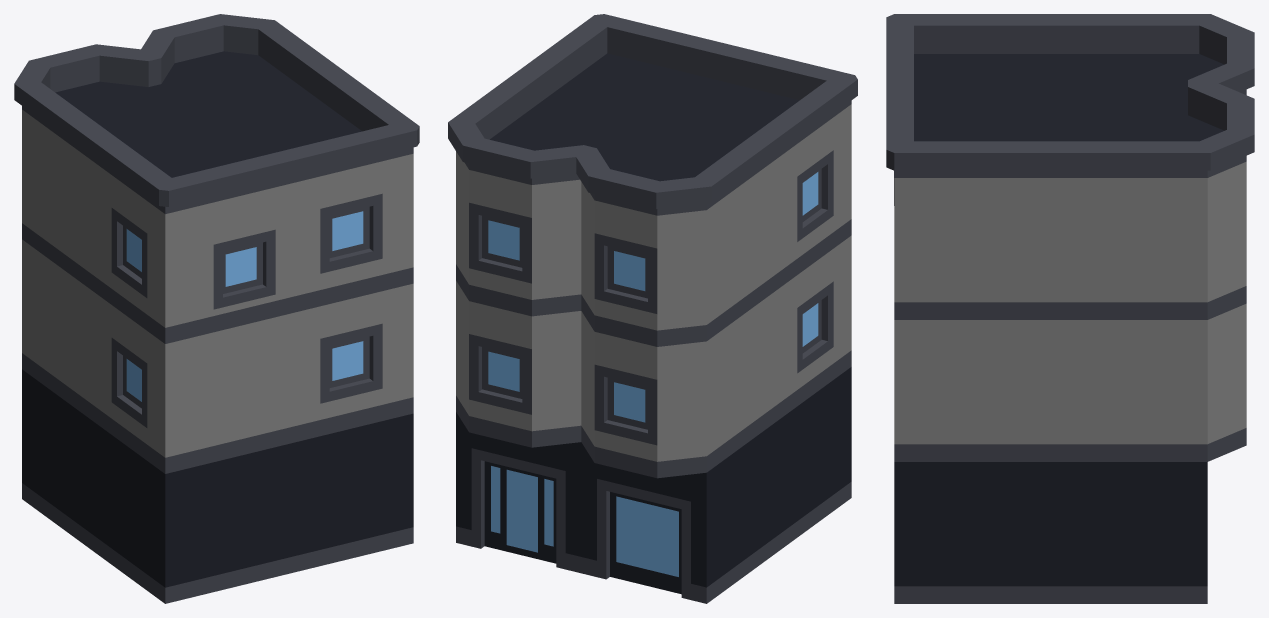
File: variant_17.obj
The picture shows the model from 3 angles, left to right: view 1: azimuth 30°, elevation 25°; view 2: azimuth 150°, elevation 25°; view 3: azimuth 270°, elevation 25°; orthographic projection. The views are drawn at different scales.
Visible parts, largest first — view 1: Building_copy, Window_copy; view 2: Building_copy; view 3: Building_copy.
Boxes of the visible parts, box(x1,y1,x2,y2) form: Building_copy: box(14, 14, 419, 603); Window_copy: box(213, 229, 275, 309); Building_copy: box(448, 14, 857, 603); Building_copy: box(886, 14, 1254, 603).
Bounding box in the file's own units: 0.84 × 1.28 × 0.94.
